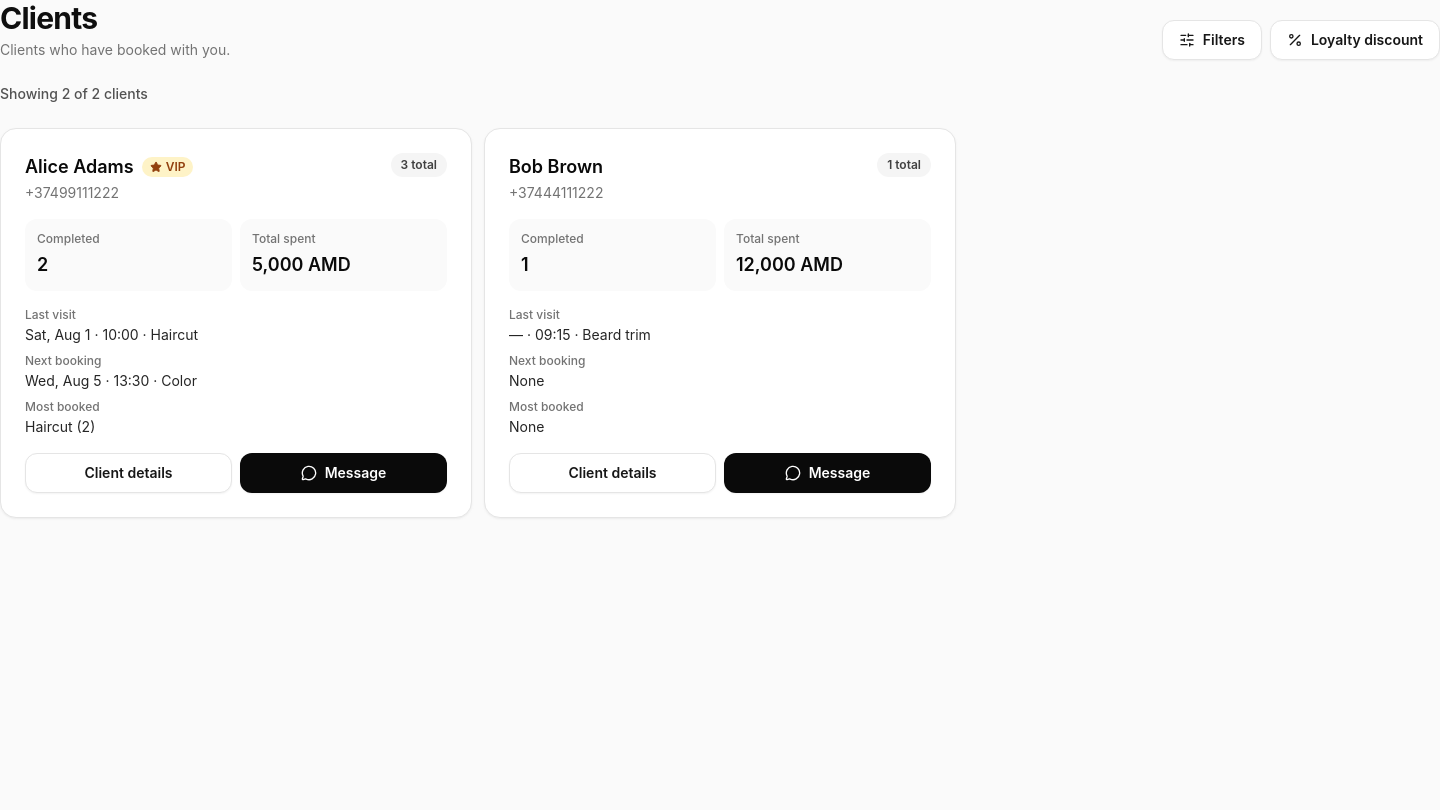
Test: ClientsPage › surfaces loyalty settings save failures and client loyalty save failures
Expected: the heading "Alice Adams" is shown, [25, 153, 134, 181]
Click the button "Loyalty discount" at x=1355, y=40, box [1270, 20, 1439, 60]
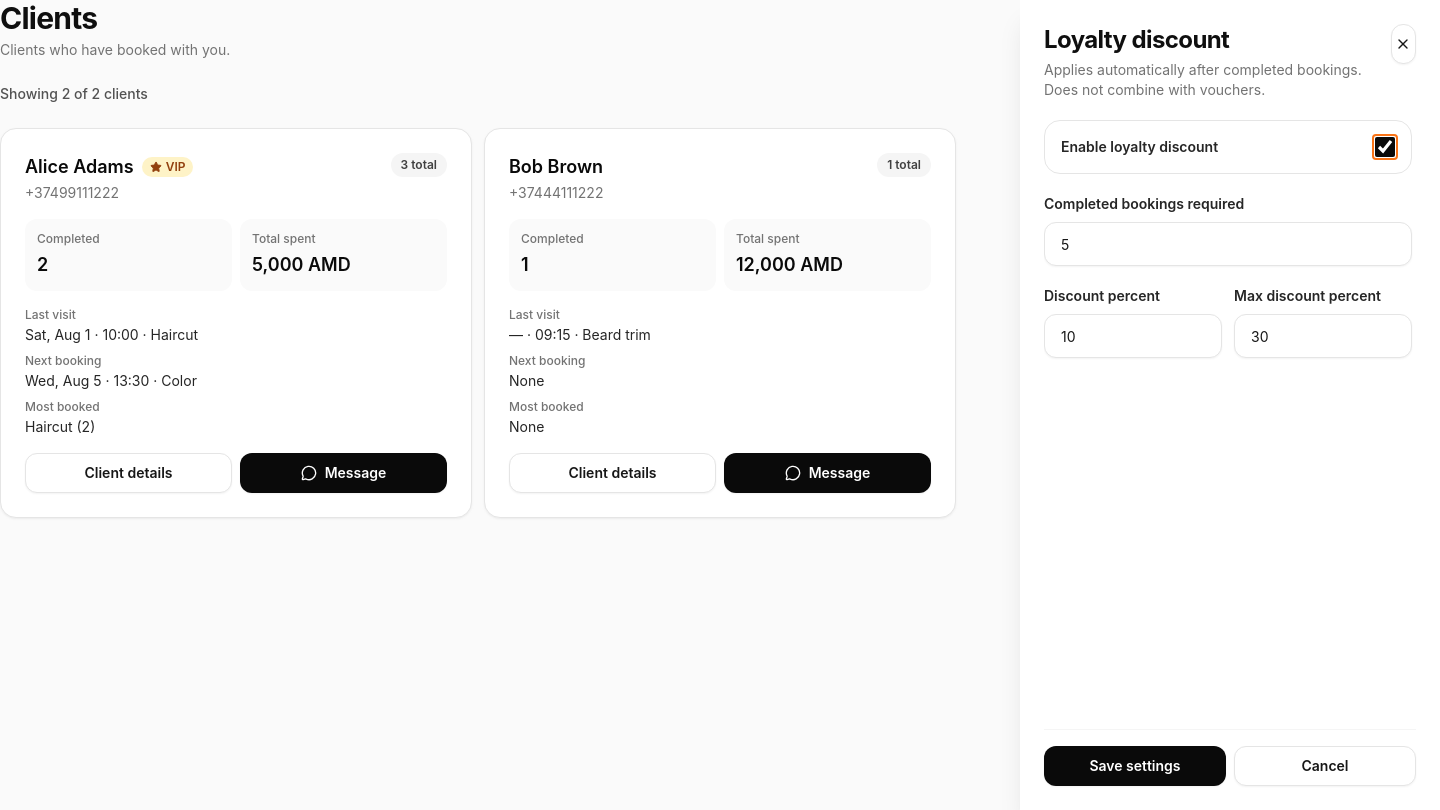
Click the button "Save settings" at x=1135, y=766, box [1044, 746, 1226, 786]
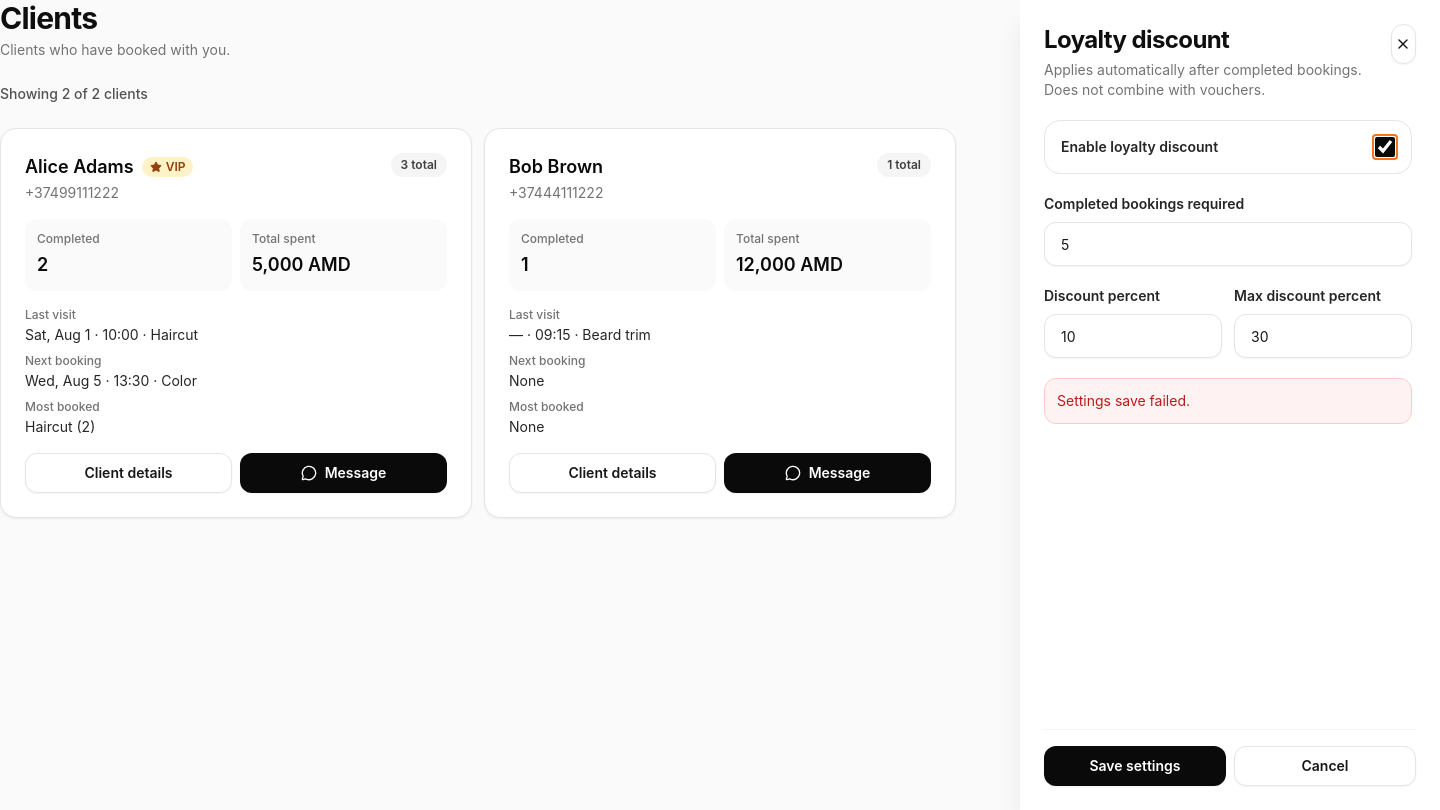
Now the message reads "Settings save failed.", box [1057, 392, 1190, 409]
Click the button "Cancel" at x=1325, y=766, box [1234, 746, 1416, 786]
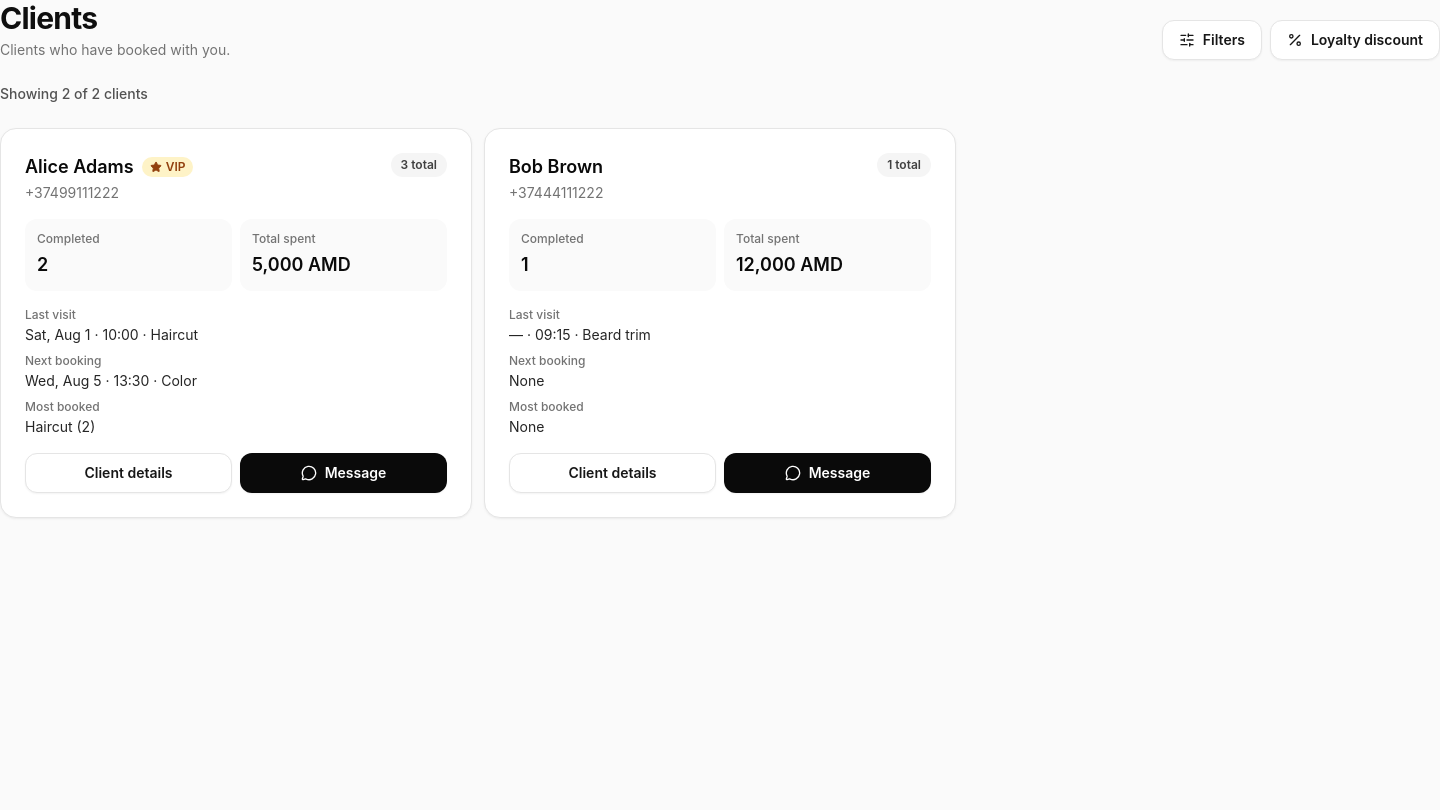
Click the button "Client details" below "Haircut (2)" at x=128, y=473, box [25, 453, 232, 493]
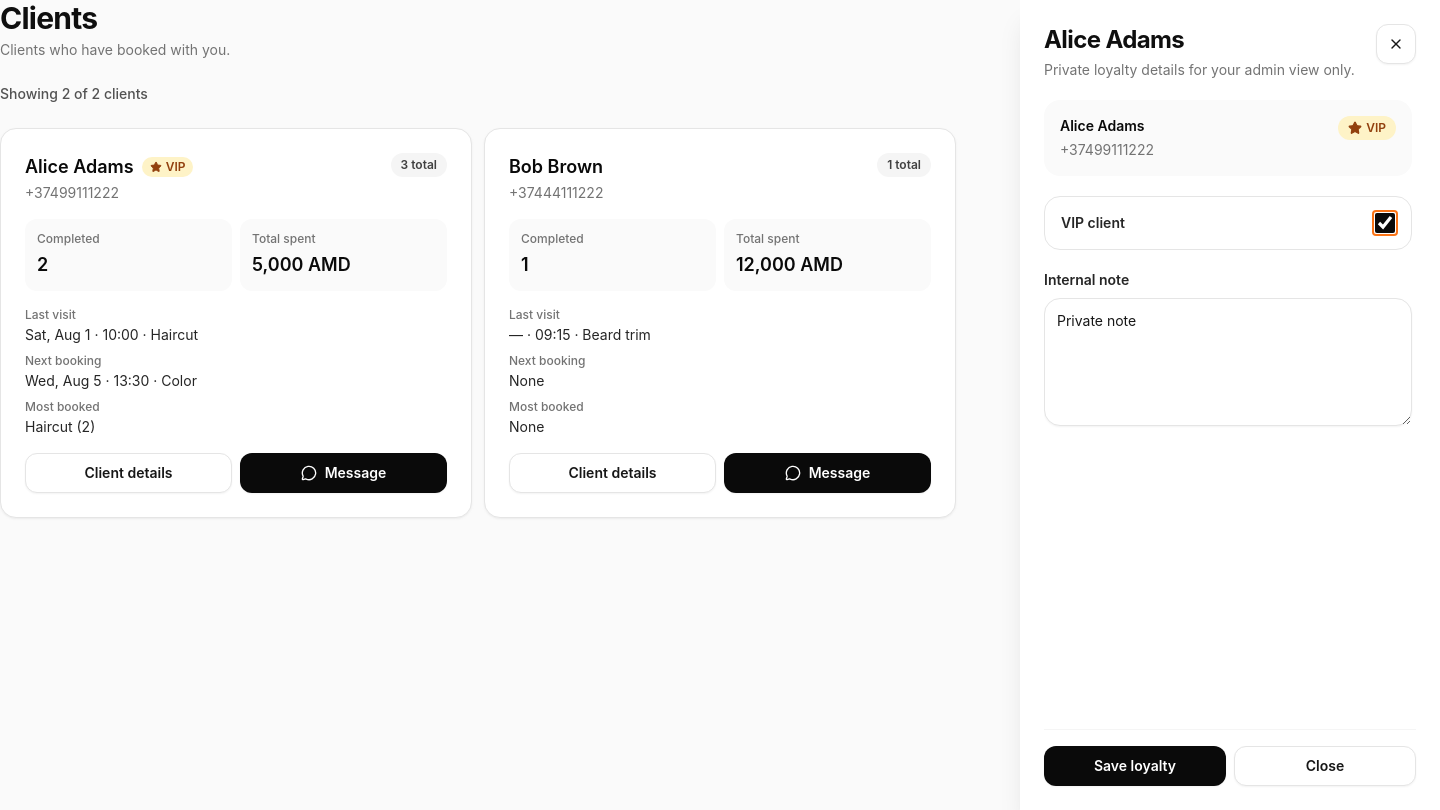
Click the button "Save loyalty" at x=1135, y=766, box [1044, 746, 1226, 786]
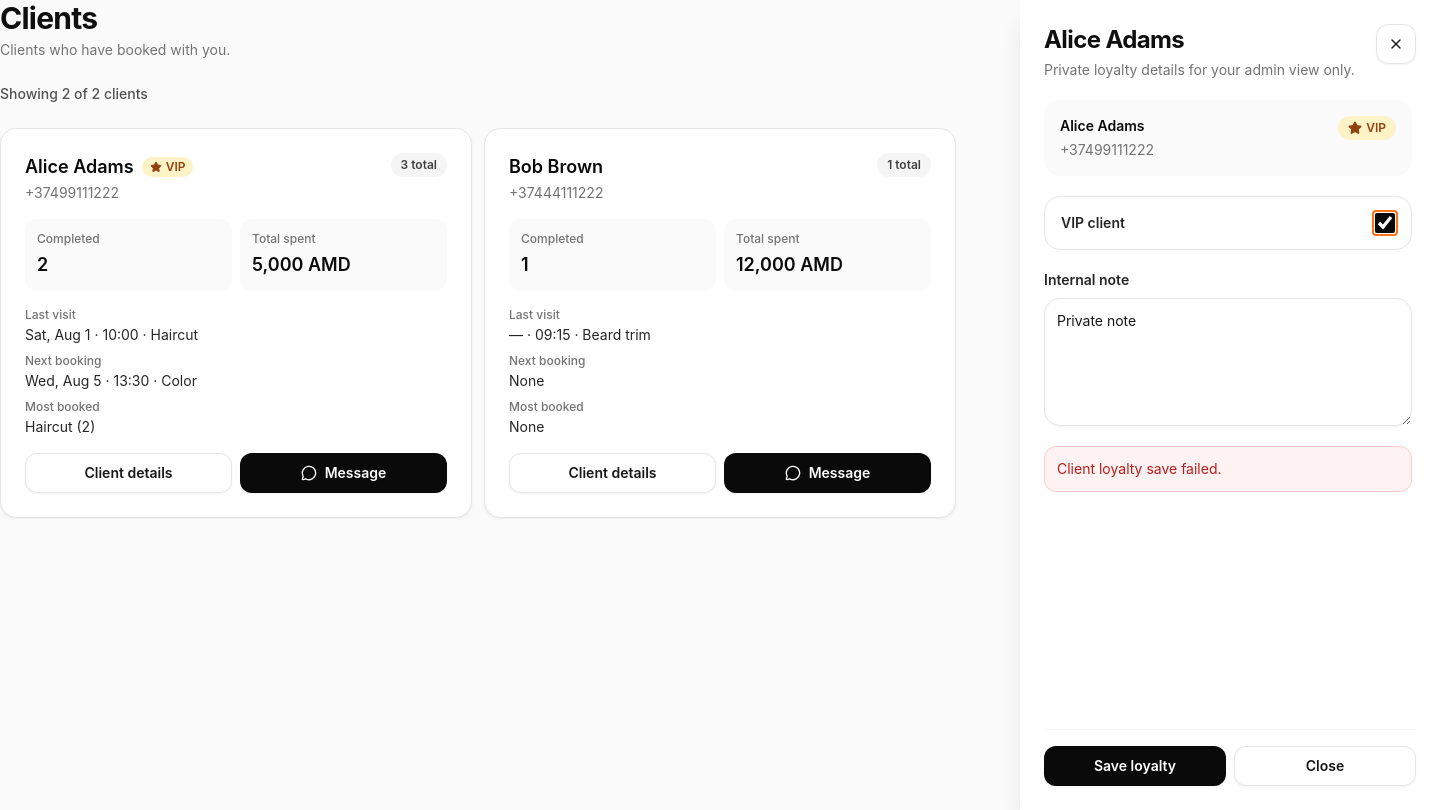
Now the message reads "Client loyalty save failed.", box [1057, 460, 1222, 477]
